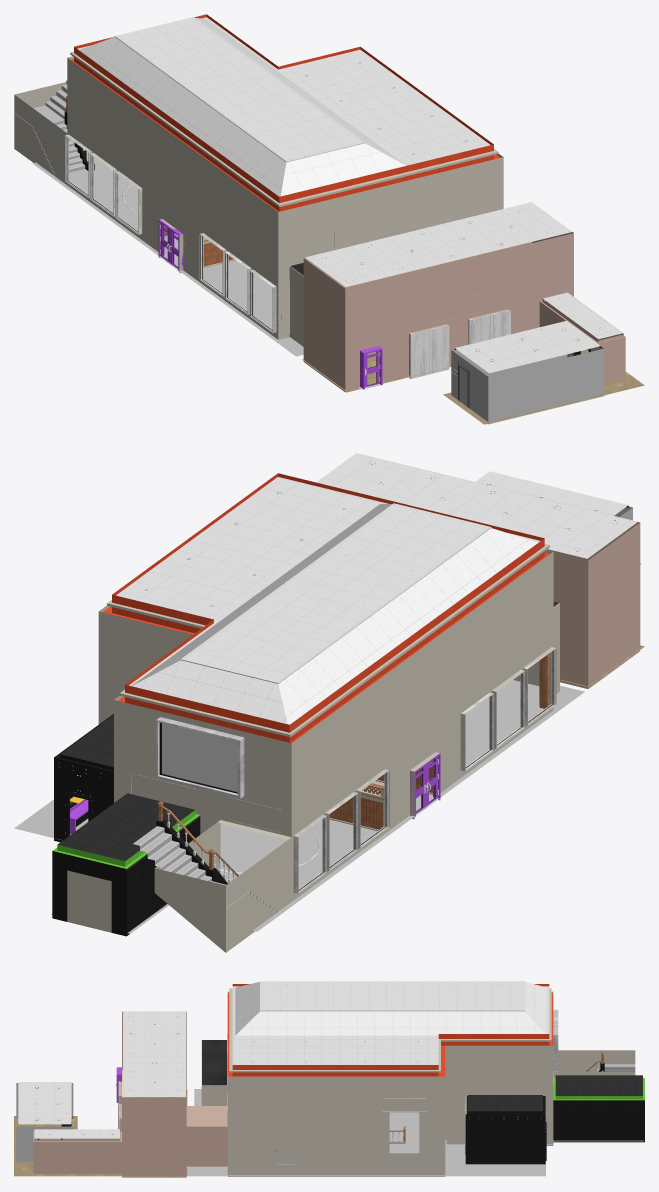
Rendered from FrontEntrance.fbx.
3 renders of one model, top to bottom at view 1: azimuth 30°, elevation 25°; view 2: azimuth 150°, elevation 25°; view 3: azimuth 270°, elevation 25°, orthographic. The views are drawn at different scales.
Visible parts, largest first — view 1: NonBaked.002; view 2: NonBaked.002; view 3: NonBaked.002.
Boxes of the visible parts, bbox=[...] form: NonBaked.002: bbox=[14, 14, 644, 424]; NonBaked.002: bbox=[14, 453, 644, 952]; NonBaked.002: bbox=[14, 981, 644, 1177].
Bounding box in the file's own units: 1080 × 733 × 3270.
